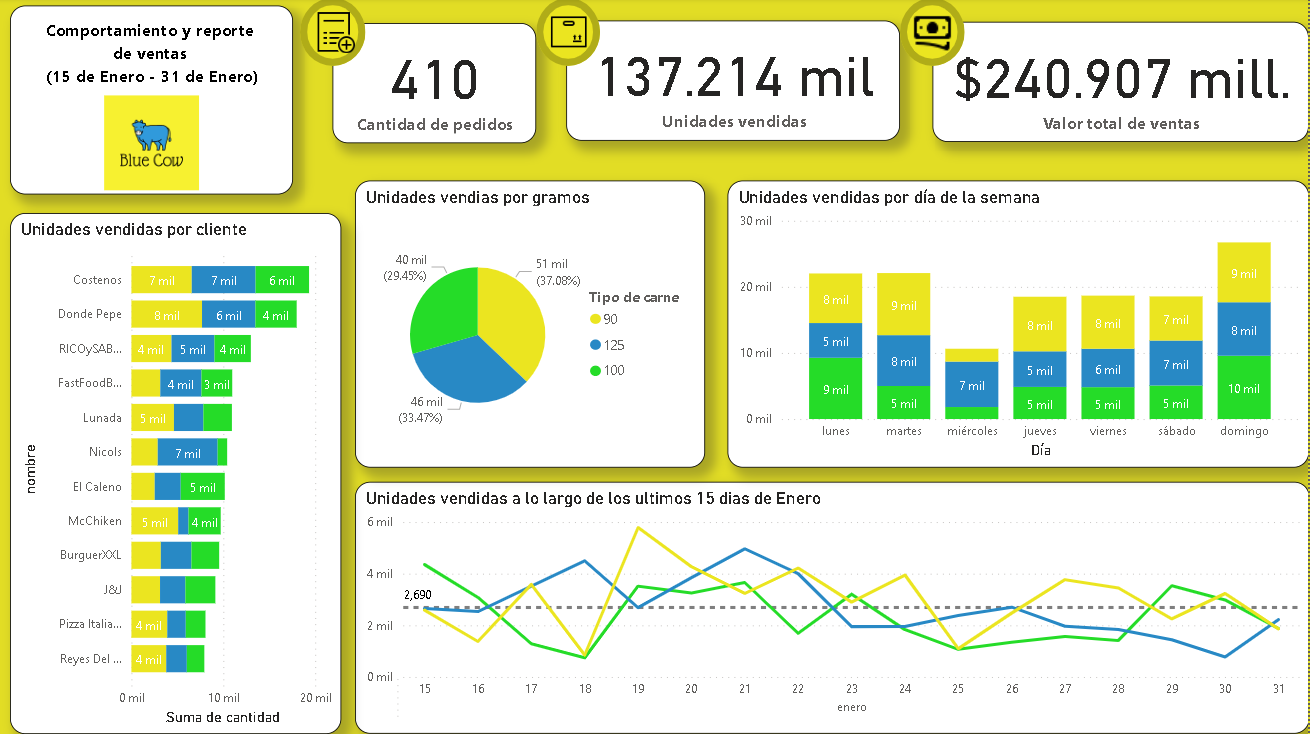

The dashboard page shown, as its layout file describes it:
{"tool":"powerbi","page":{"name":"dashboard","canvas":[1280,720],"ordinal":0},"visuals":[{"type":"lineChart","title":"Unidades vendidas a lo largo de los ultimos 15 dias de Enero","fields":{"Y":["Sum(extraccion_bd.cantidad)"],"Series":["extraccion_bd.gramos"],"Category":["calendario.Date.Variación.Jerarquía de fechas.Mes","calendario.Date.Variación.Jerarquía de fechas.Día"]},"box":[347,473.4,933.3,246.1],"z":1000},{"type":"pieChart","title":"Unidades vendias por gramos","fields":{"Category":["extraccion_bd.gramos"],"Y":["Sum(extraccion_bd.cantidad)"]},"box":[347.2,178.5,342.3,281.2],"z":2000},{"type":"textbox","box":[10.1,7.9,277.2,184.8],"z":2500},{"type":"barChart","title":"Unidades vendidas por cliente","fields":{"Category":["extraccion_bd.nombre"],"Y":["Sum(extraccion_bd.cantidad)"],"Series":["extraccion_bd.gramos"]},"box":[9.8,210.3,323.9,509.7],"z":3000},{"type":"card","fields":{"Values":["tabla_metricas.conteo_pedidos_gramos"]},"box":[325.6,24.4,198.8,117.4],"z":4000},{"type":"card","fields":{"Values":["tabla_metricas.sum_cantidad"]},"box":[553.5,22.1,326.7,117.4],"z":5000},{"type":"card","fields":{"Values":["tabla_metricas.sum_valor_total"]},"box":[911.9,23.2,367.9,117.4],"z":6000},{"type":"columnChart","title":"Unidades vendidas por día de la semana","fields":{"Category":["extraccion_bd.dia_semana"],"Y":["tabla_metricas.sum_cantidad"],"Series":["extraccion_bd.gramos"]},"box":[711.4,178.5,568.4,281.2],"z":7000},{"type":"shape","box":[293,0,64,66.3],"z":9000},{"type":"shape","box":[524.4,0,62.8,66.3],"z":10000},{"type":"shape","box":[880.1,0,63.6,66],"z":11000},{"type":"image","box":[282.6,7,87.2,51.2],"z":12000},{"type":"image","box":[867.9,7.3,88,51.3],"z":13000},{"type":"image","box":[511.6,7,88.4,51.2],"z":14000},{"type":"image","box":[36.1,90.1,225.4,102.5],"z":16500}]}

Visuals, with their boxes in screenshot pixels (x1, y1, x2, y2), scaled from the page's 1280x720 canvas onto the 1310x734 screenshot:
"Unidades vendidas a lo largo de los ultimos 15 dias de Enero" lineChart: region(355, 483, 1309, 733)
"Unidades vendias por gramos" pieChart: region(355, 182, 706, 469)
textbox: region(10, 8, 294, 196)
"Unidades vendidas por cliente" barChart: region(10, 214, 342, 733)
card - tabla_metricas.conteo_pedidos_gramos: region(333, 25, 537, 145)
card - tabla_metricas.sum_cantidad: region(566, 23, 901, 142)
card - tabla_metricas.sum_valor_total: region(933, 24, 1309, 143)
"Unidades vendidas por día de la semana" columnChart: region(728, 182, 1309, 469)
shape: region(300, 0, 365, 68)
shape: region(537, 0, 601, 68)
shape: region(901, 0, 966, 67)
image: region(289, 7, 378, 59)
image: region(888, 7, 978, 60)
image: region(524, 7, 614, 59)
image: region(37, 92, 268, 196)
